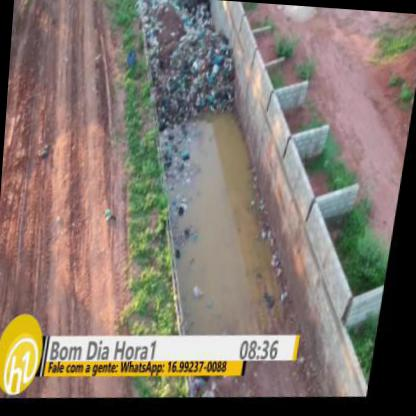agua: (177, 116, 272, 344)
lixo: (158, 33, 230, 108)
